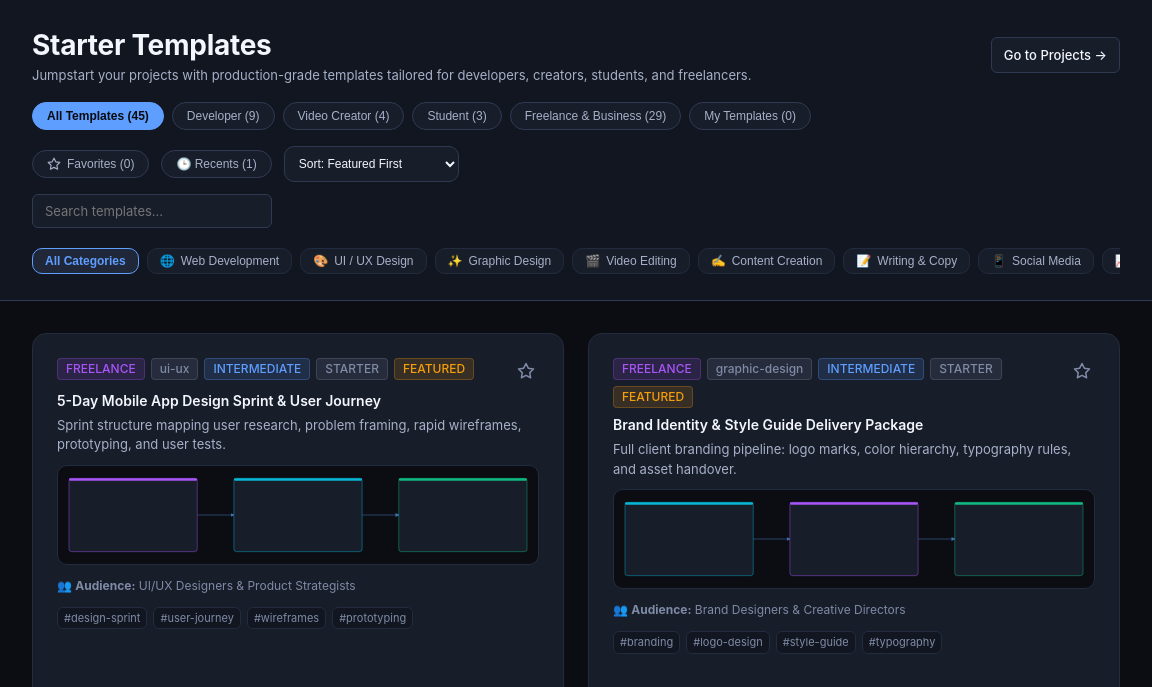
Test: Phase 7: Template Gallery Recents & Complexity Discovery › renders recents filter pill and filters to recently used templates
Click recents filter
Click the button with aria-label "Filter by recently used templates": (217, 164) [161, 150, 272, 178]
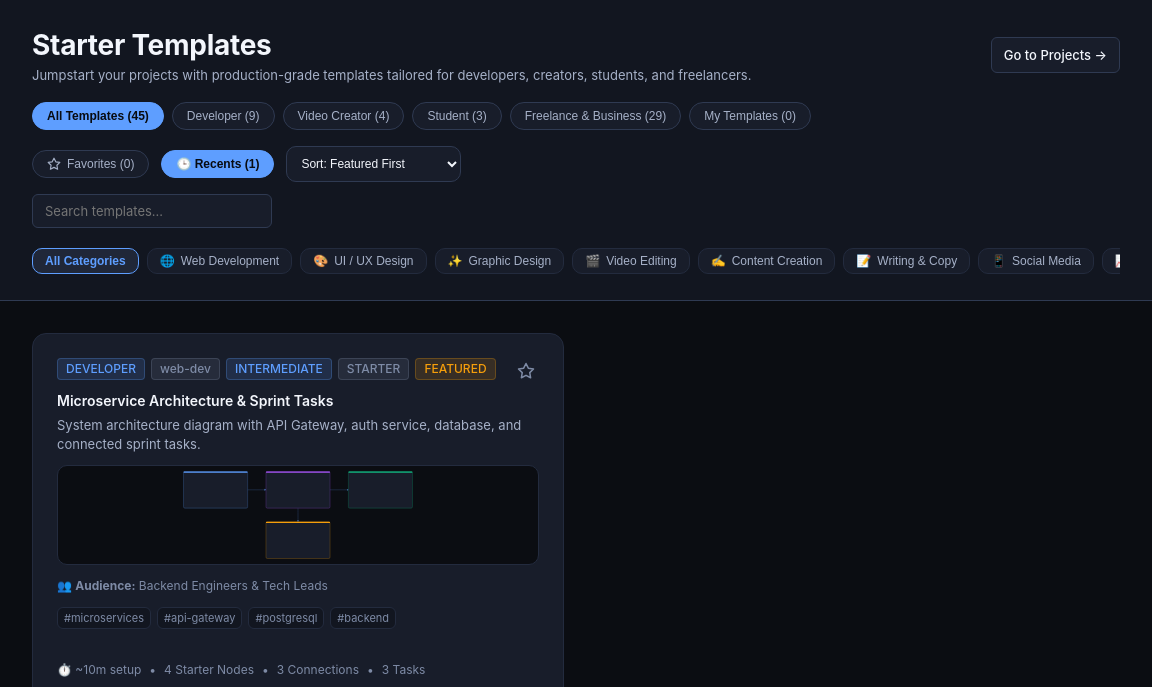
Check: the heading "Microservice Architecture & Sprint Tasks" is shown, box [57, 392, 333, 408]
